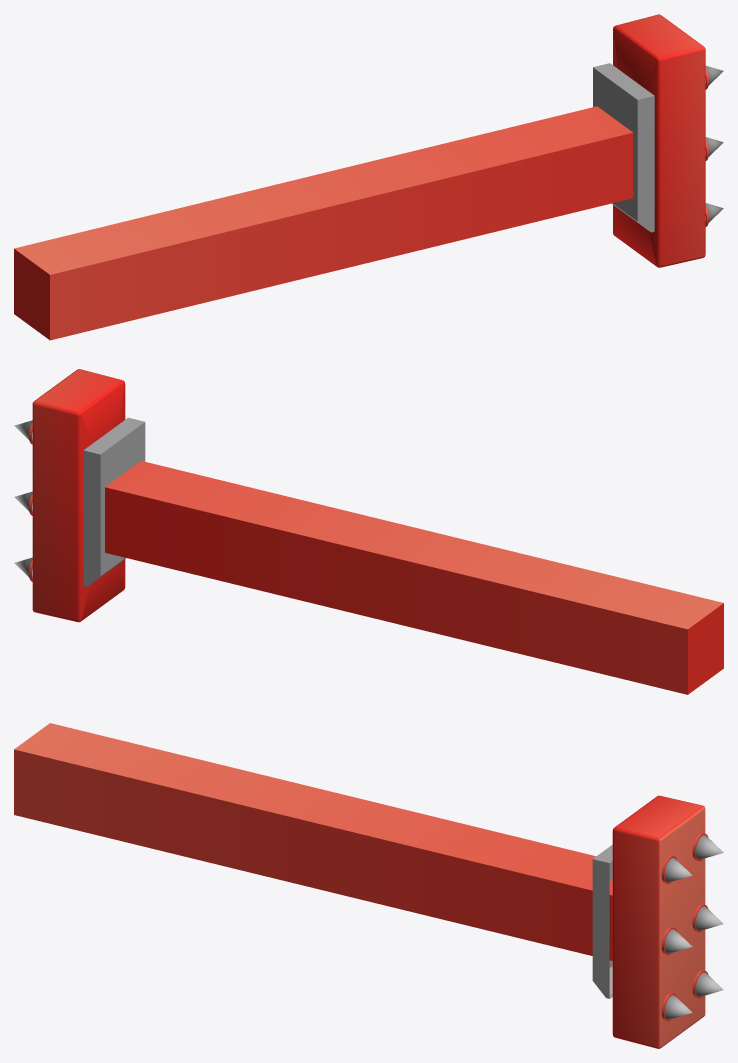
Rendered from Spike_Move.fbx.
3 renders of one model, top to bottom at view 1: azimuth 30°, elevation 25°; view 2: azimuth 150°, elevation 25°; view 3: azimuth 330°, elevation 25°, orthographic.
Visible parts, largest first — view 1: Cube.001; view 2: Cube.001; view 3: Cube.001.
Part boxes in pixels (x1,y1,x2,y2): Cube.001: (14, 14, 723, 340); Cube.001: (14, 369, 723, 694); Cube.001: (14, 723, 723, 1048).
Bounding box in the file's own units: 1085 × 324 × 130.
